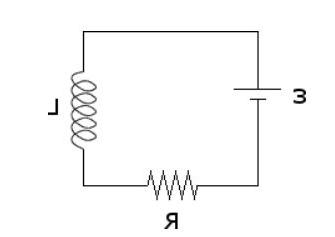inductor: (65, 67, 106, 154)
